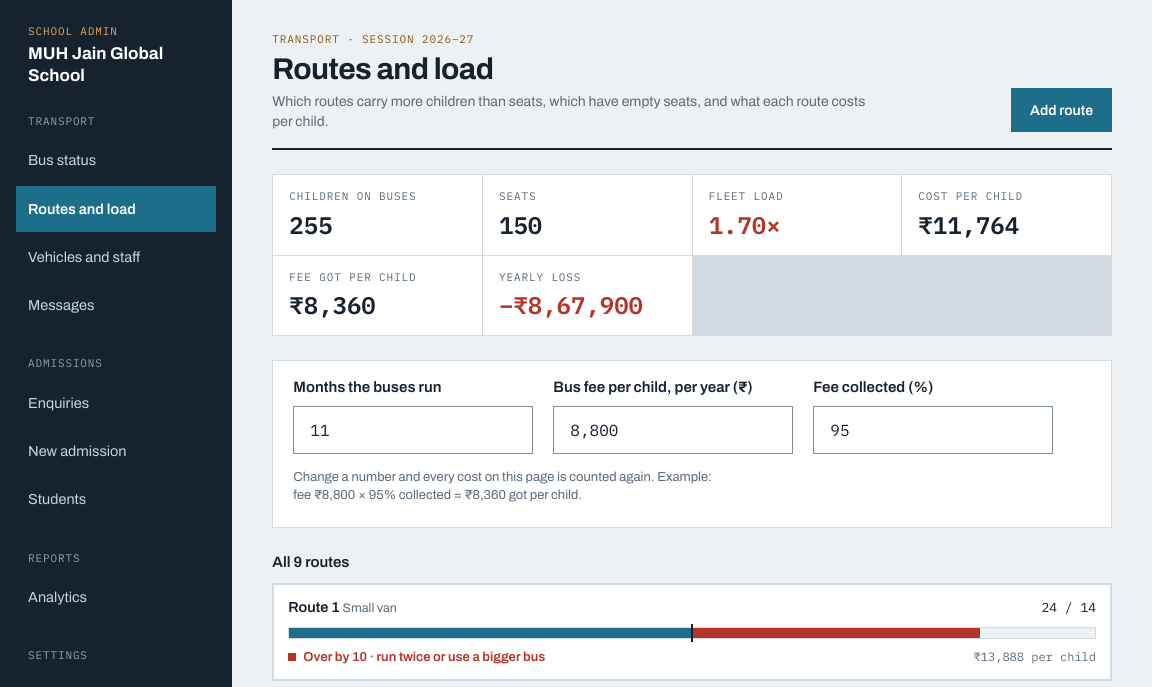
Test: Add route and delete route › asks for a name
Step 1. Click the button "Add route" → (1062, 110), box [1011,88,1112,132]
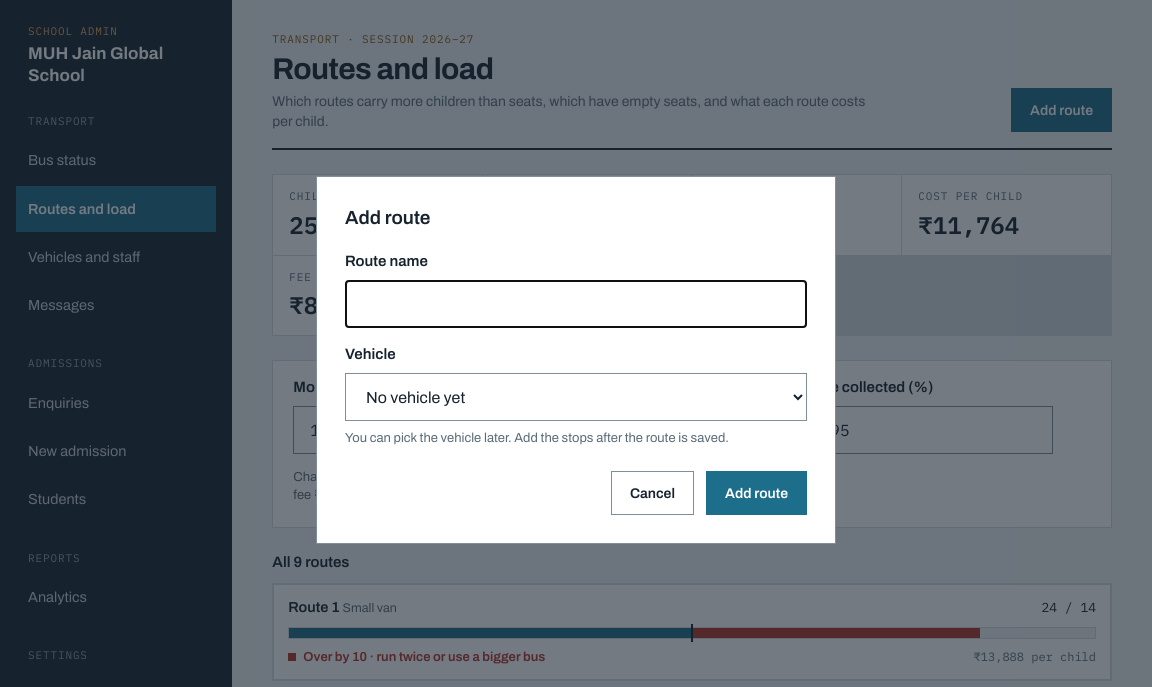
Step 2. Click the button "Add route" → (756, 493), box [706,471,807,515]
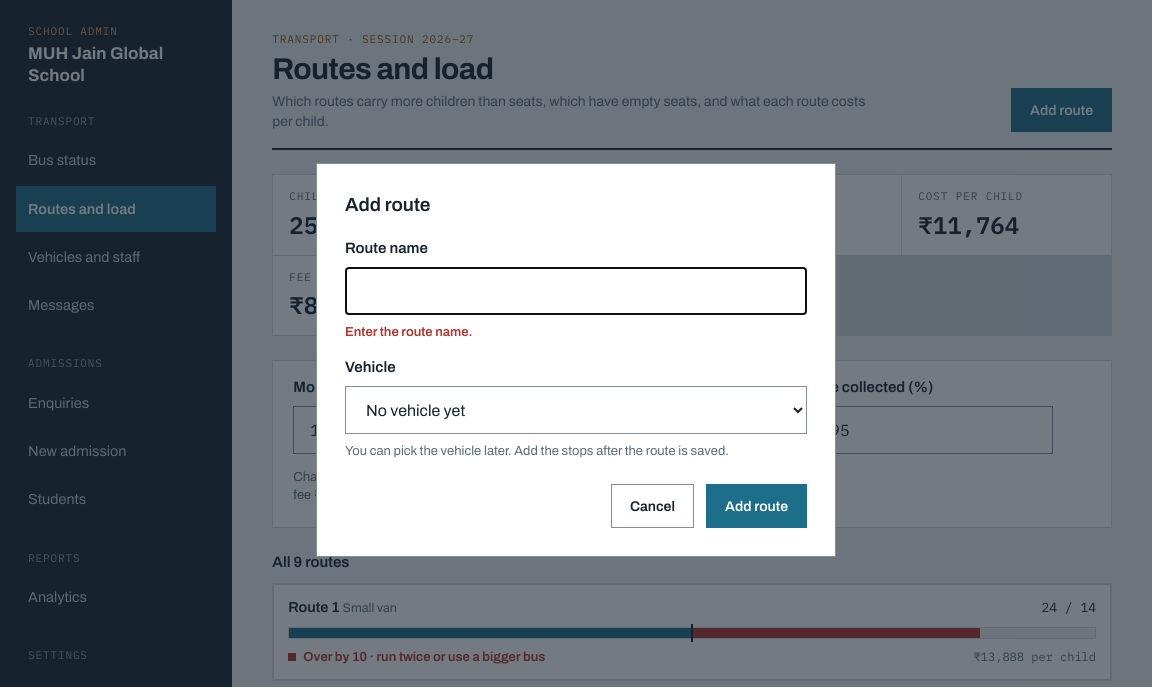
Now the text "Enter the route name." is shown, box [345,325,472,339]
